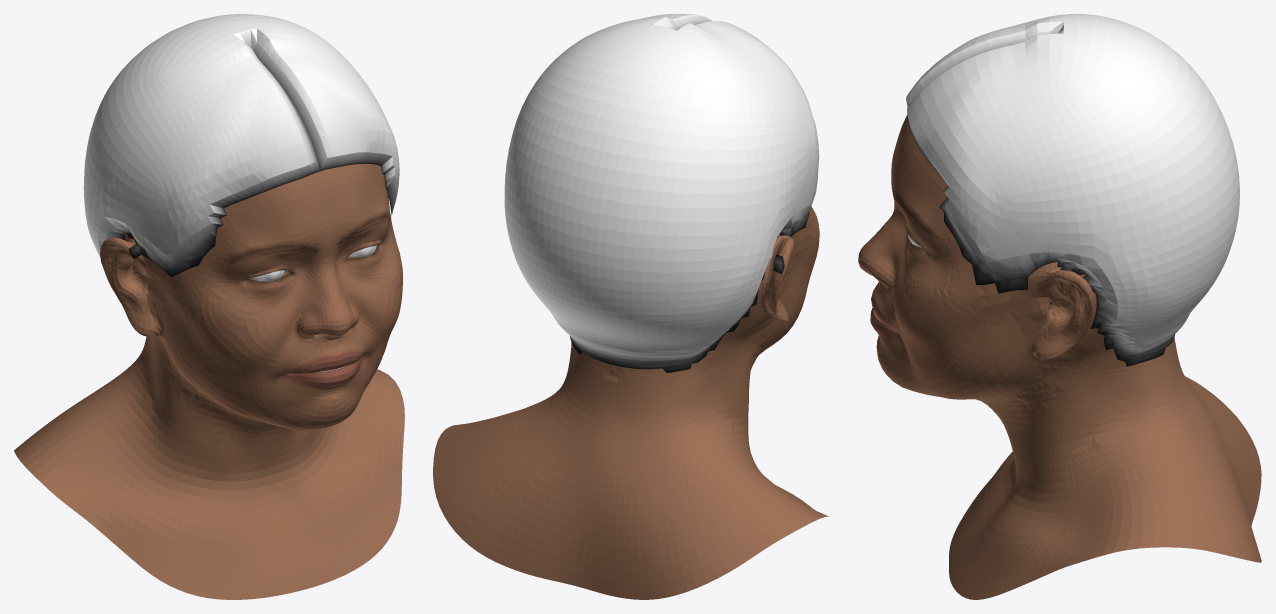
File: kavita.glb
3 views of the same model, side by side, from view 1: azimuth 30°, elevation 25°; view 2: azimuth 150°, elevation 25°; view 3: azimuth 270°, elevation 25° (orthographic). The views are drawn at different scales.
Parts seen in each view (by area): view 1: gnm_head; view 2: gnm_head; view 3: gnm_head.
Boxes of the visible parts, left/top/right/bottom form: gnm_head: left=14, top=14, right=404, bottom=599; gnm_head: left=433, top=14, right=828, bottom=599; gnm_head: left=858, top=14, right=1261, bottom=599.
Bounding box in the file's own units: 0.2517 × 0.3444 × 0.2339.
